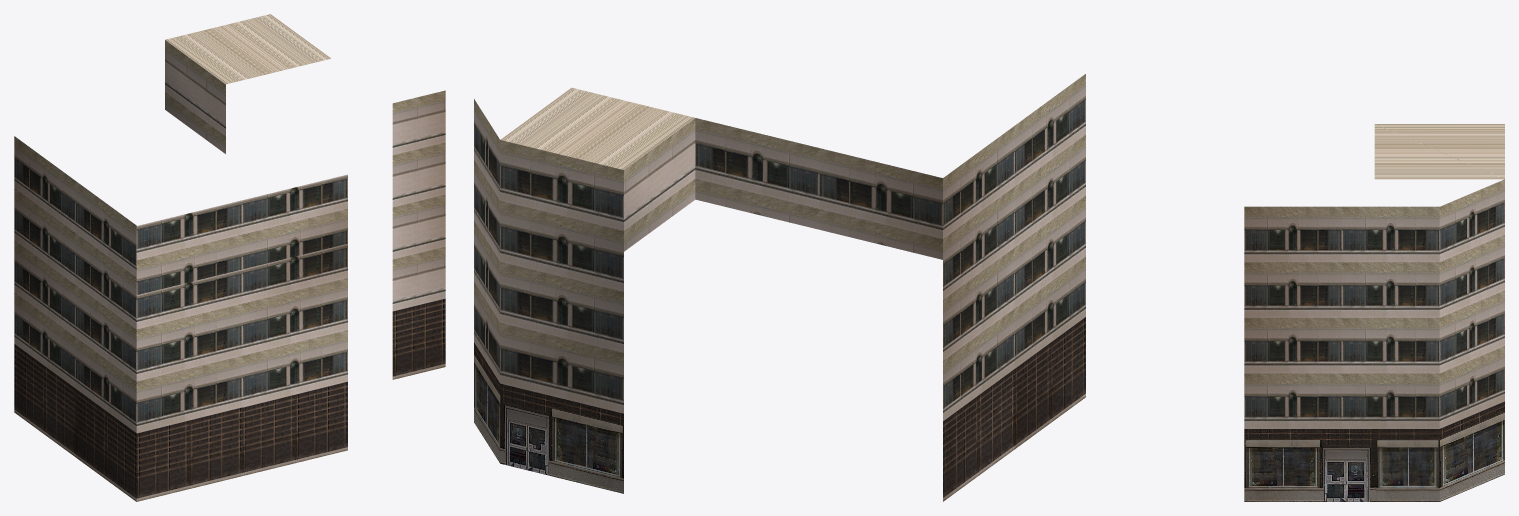
The model's file is M2Zone4_Building16A.glb.
3 renders of one model, left to right at view 1: azimuth 30°, elevation 25°; view 2: azimuth 150°, elevation 25°; view 3: azimuth 270°, elevation 25°, orthographic. The views are drawn at different scales.
Visible parts, largest first — view 1: M2ZONE4_BUILDING16A; view 2: M2ZONE4_BUILDING16A; view 3: M2ZONE4_BUILDING16A.
Part boxes in pixels (bbox=[...]): M2ZONE4_BUILDING16A: bbox=[14, 14, 445, 501]; M2ZONE4_BUILDING16A: bbox=[474, 74, 1085, 501]; M2ZONE4_BUILDING16A: bbox=[1244, 124, 1504, 501].
Bounding box in the file's own units: 28 × 20 × 24.
4 materials, 4 textured.
